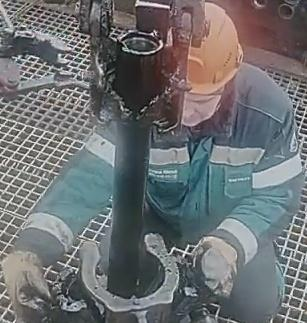gloves: (0, 237, 53, 323), (193, 233, 240, 298)
helmet: (185, 1, 244, 105)
vest: (129, 103, 305, 244)
